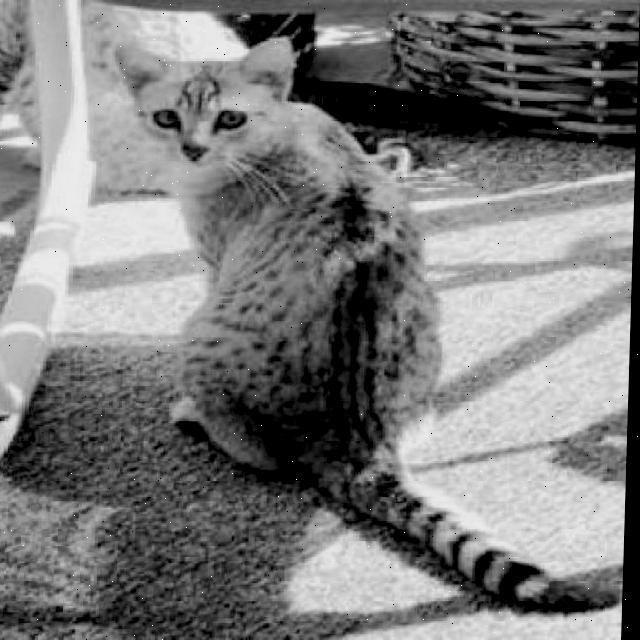Cat: (95, 35, 631, 614)
